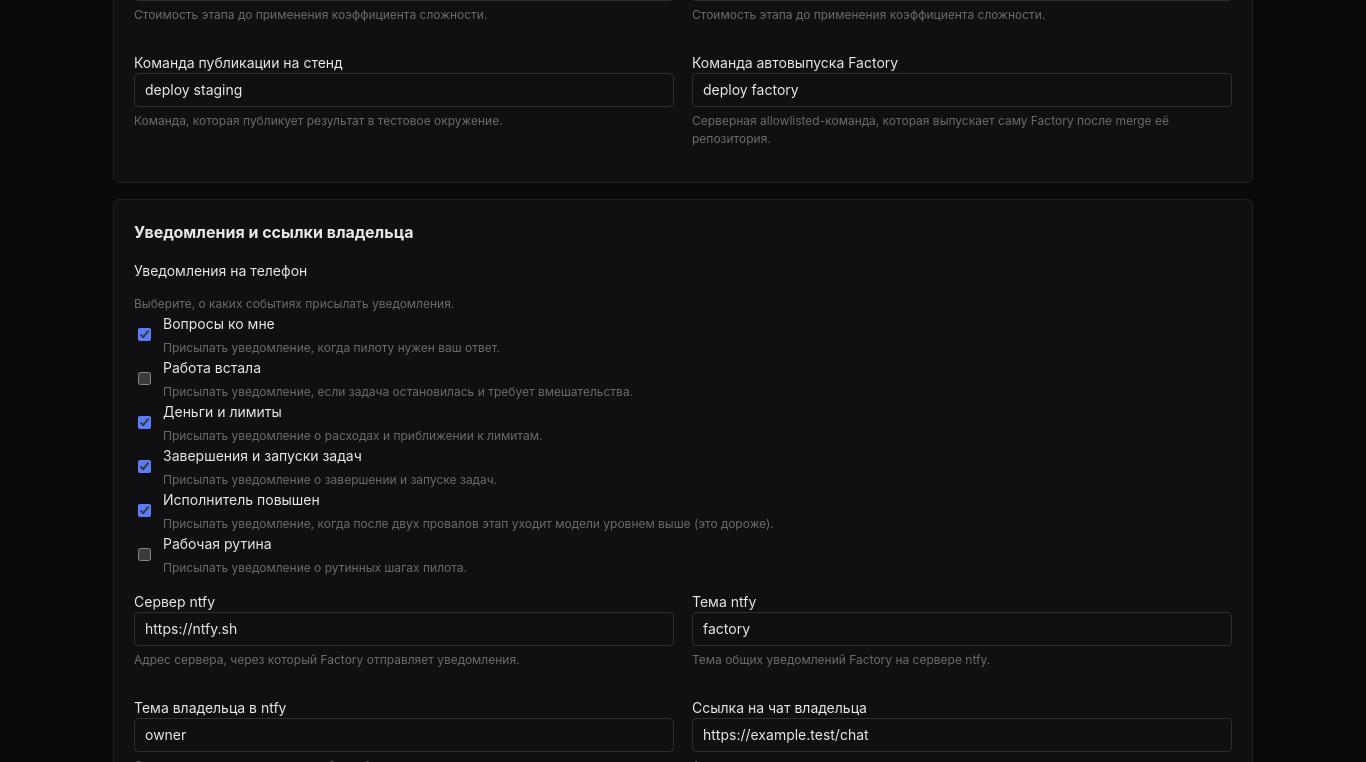
Test: shows every notification group in Russian with a hint and saves the changed selection
(page scrolled)
Expected: the checkbox labelled "Вопросы ко мне" is shown, x1=138 y1=328 x2=151 y2=341
Expected: the checkbox labelled "Деньги и лимиты" is shown, x1=138 y1=416 x2=151 y2=429
Click the checkbox labelled "Работа встала" at (144,378), box x1=138 y1=372 x2=151 y2=385
(page scrolled)
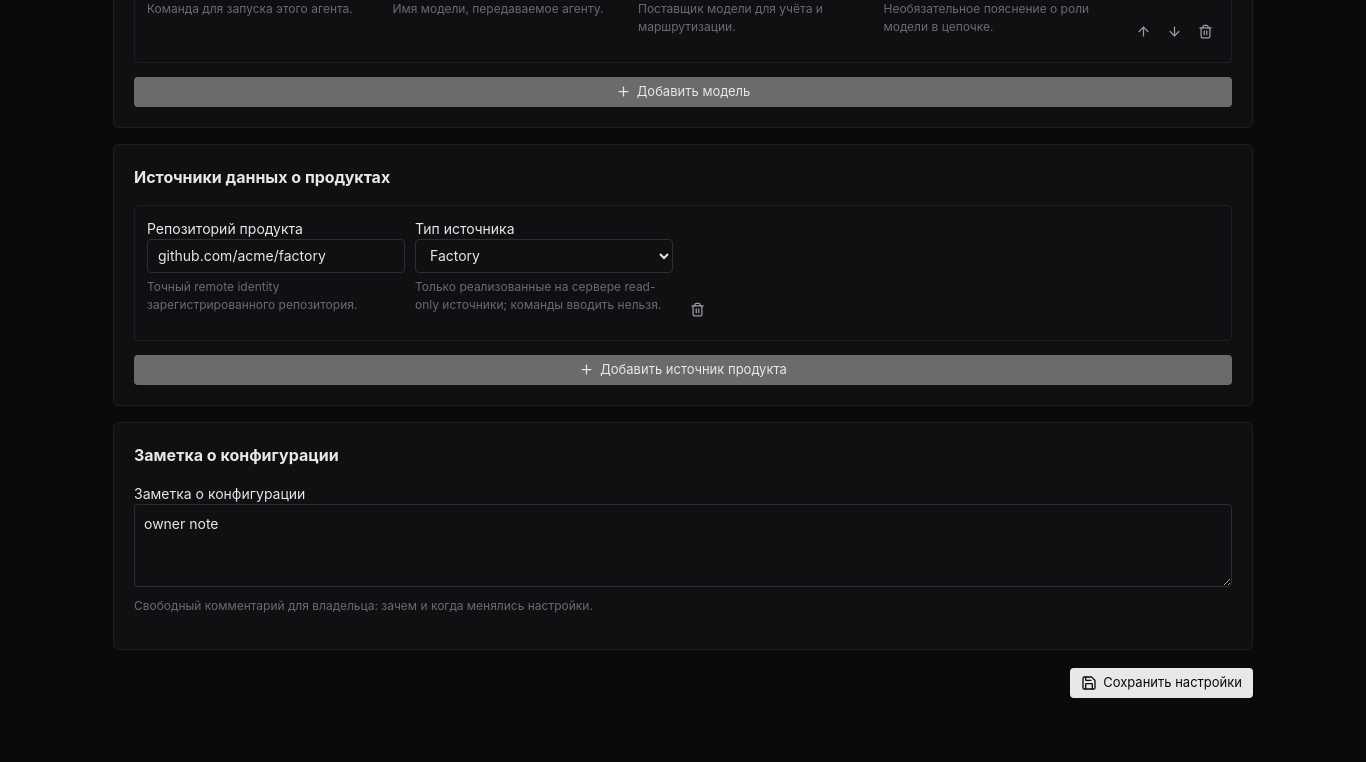
Click the button "Сохранить настройки" at (1162,683), box x1=1070 y1=668 x2=1253 y2=698
(page scrolled)
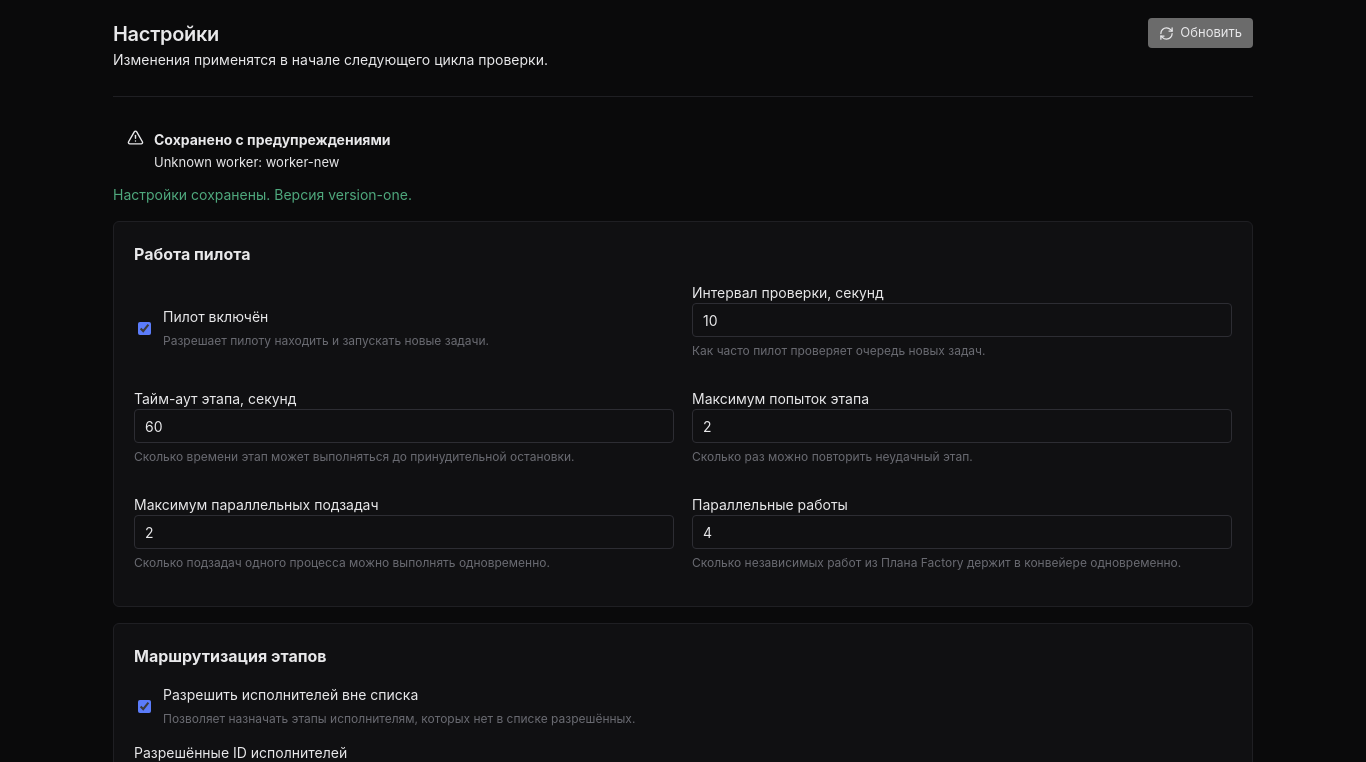
Expected: the text "Настройки сохранены. Версия version-one." is shown, x1=113 y1=186 x2=412 y2=203
